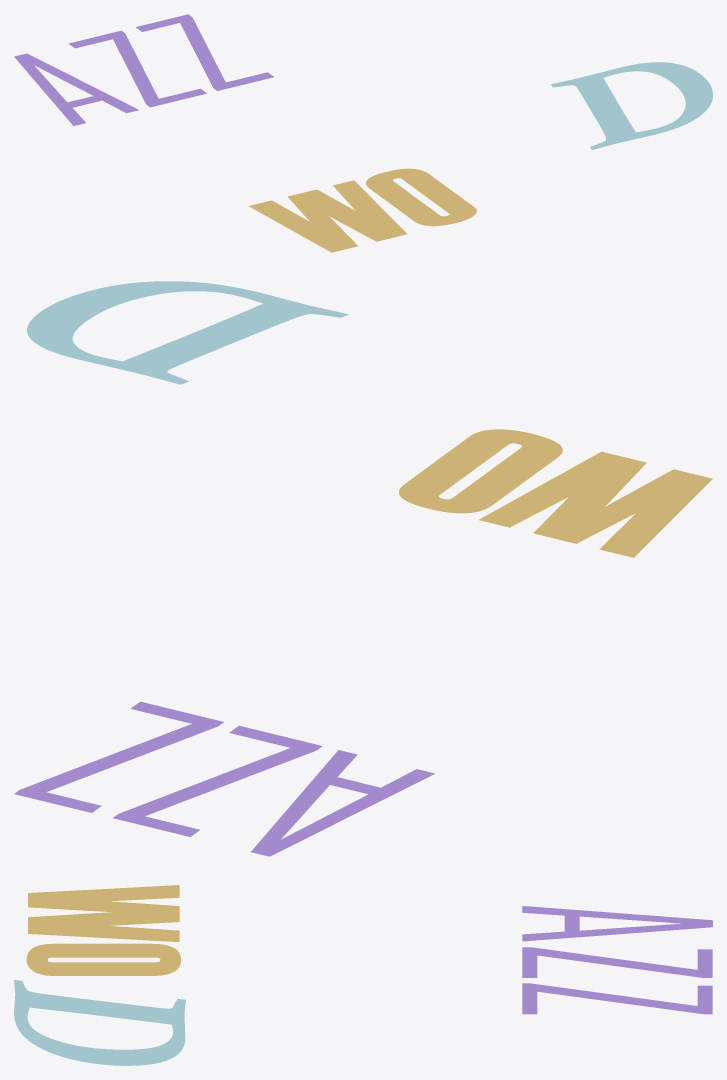
The model's file is Password.gltf.
3 renders of one model, top to bottom at view 1: azimuth 30°, elevation 25°; view 2: azimuth 150°, elevation 25°; view 3: azimuth 270°, elevation 25°, orthographic. The views are drawn at different scales.
Visible parts, largest first — view 1: ASS.004, ASS.002, ASS; view 2: ASS.004, ASS.002, ASS; view 3: ASS.004, ASS.002, ASS.
Part boxes in pixels (box(x1,y1,x2,y2)): ASS.004: box(248, 168, 476, 252); ASS.002: box(14, 14, 273, 125); ASS: box(551, 62, 712, 149); ASS.004: box(399, 429, 712, 557); ASS.002: box(14, 701, 434, 856); ASS: box(27, 281, 348, 384); ASS.004: box(26, 885, 180, 975); ASS.002: box(522, 906, 712, 1014); ASS: box(14, 980, 185, 1065).
Size of the model in its own units: 1.94 by 0.3058 by 2.37.
